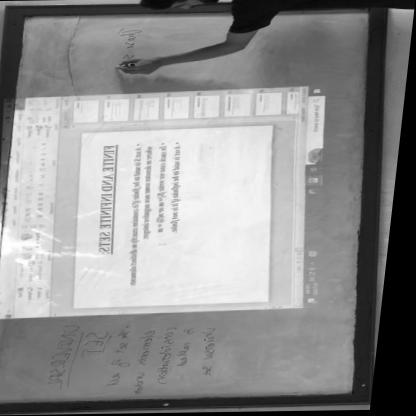Handwritten text: (39, 318, 91, 390), (135, 323, 166, 399), (159, 320, 186, 390), (112, 328, 140, 388), (202, 328, 232, 379), (85, 331, 121, 362), (182, 325, 206, 369)
Whiteboard: (0, 7, 392, 408)
